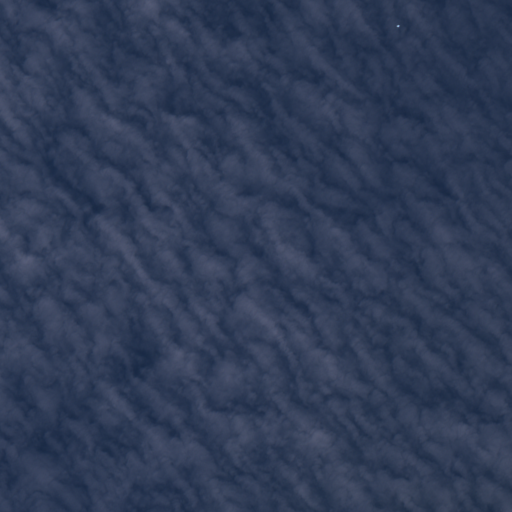Iceberg: (396, 25, 399, 27)
